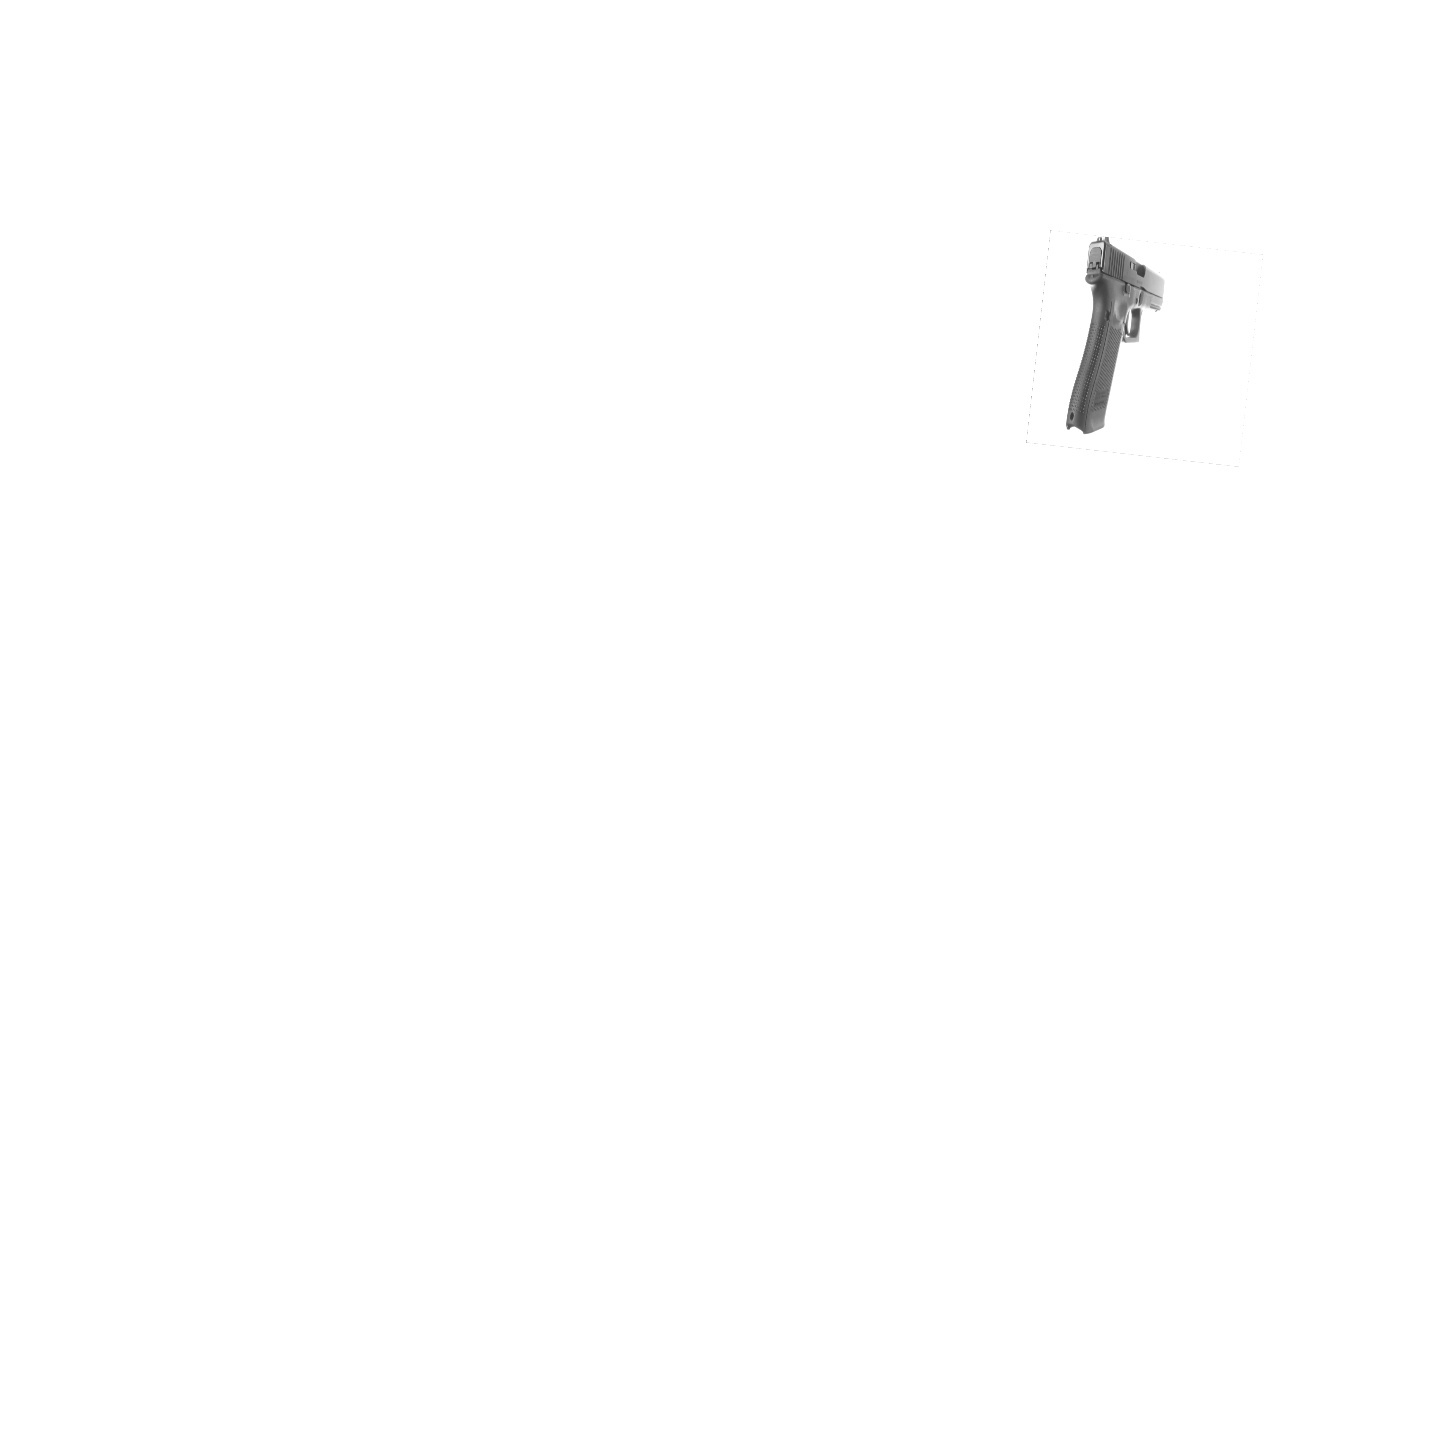gun: (1065, 236, 1164, 433)
